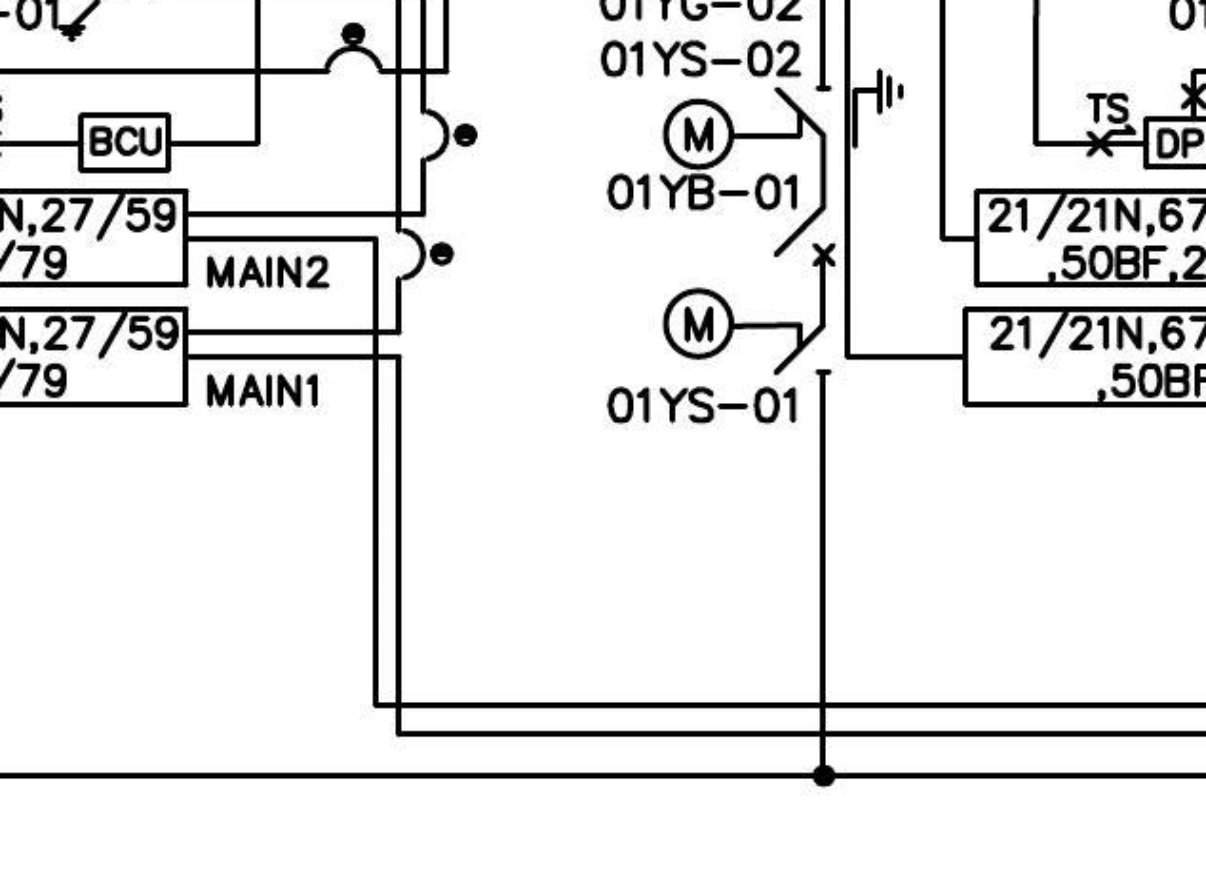115_1way_ds_w_motor: (661, 287, 834, 376)
115_3ways_ds_w_motor: (661, 67, 905, 172)
115_breaker: (773, 205, 836, 267)
BCU: (77, 111, 173, 174)
